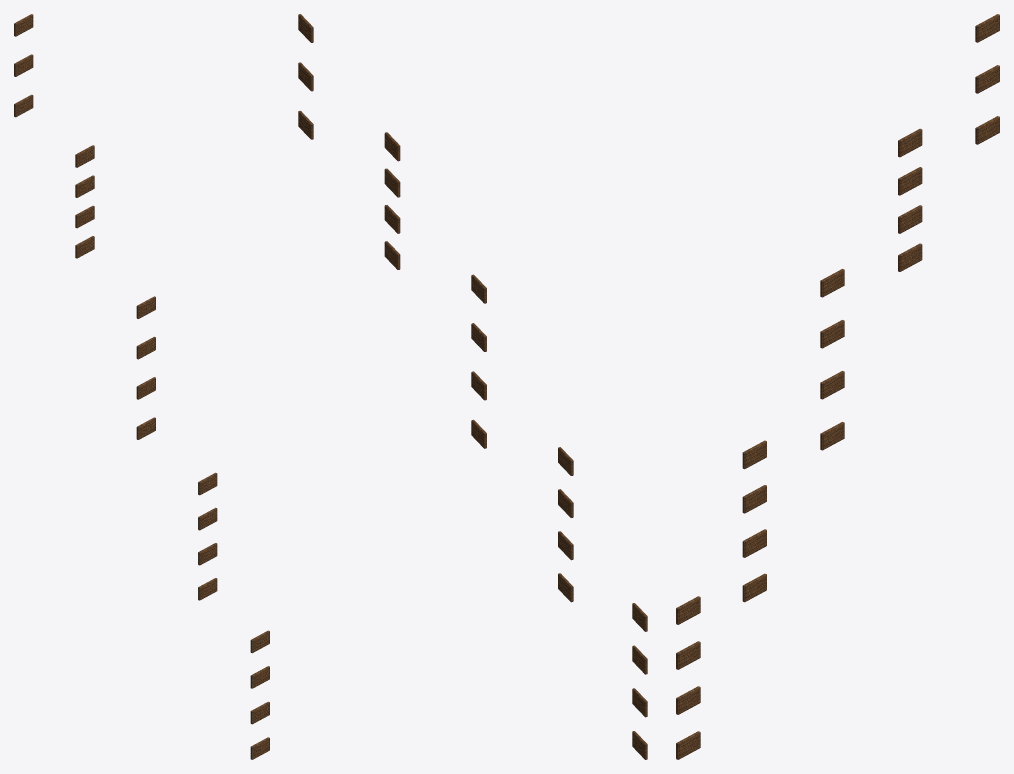
Rendered from env_gauge_plaques.fbx.
3 renders of one model, left to right at view 1: azimuth 90°, elevation 25°; view 2: azimuth 150°, elevation 25°; view 3: azimuth 270°, elevation 25°, orthographic. The views are drawn at different scales.
Parts seen in each view (by area): view 1: env_gauge_plaques; view 2: env_gauge_plaques; view 3: env_gauge_plaques.
Part boxes in pixels (box(x1,y1,x2,y2)): env_gauge_plaques: box(14, 14, 269, 759); env_gauge_plaques: box(298, 14, 647, 759); env_gauge_plaques: box(676, 14, 999, 759).
Bounding box in the file's own units: 18.76 × 65.3 × 23.01.
1 material, 1 textured.
